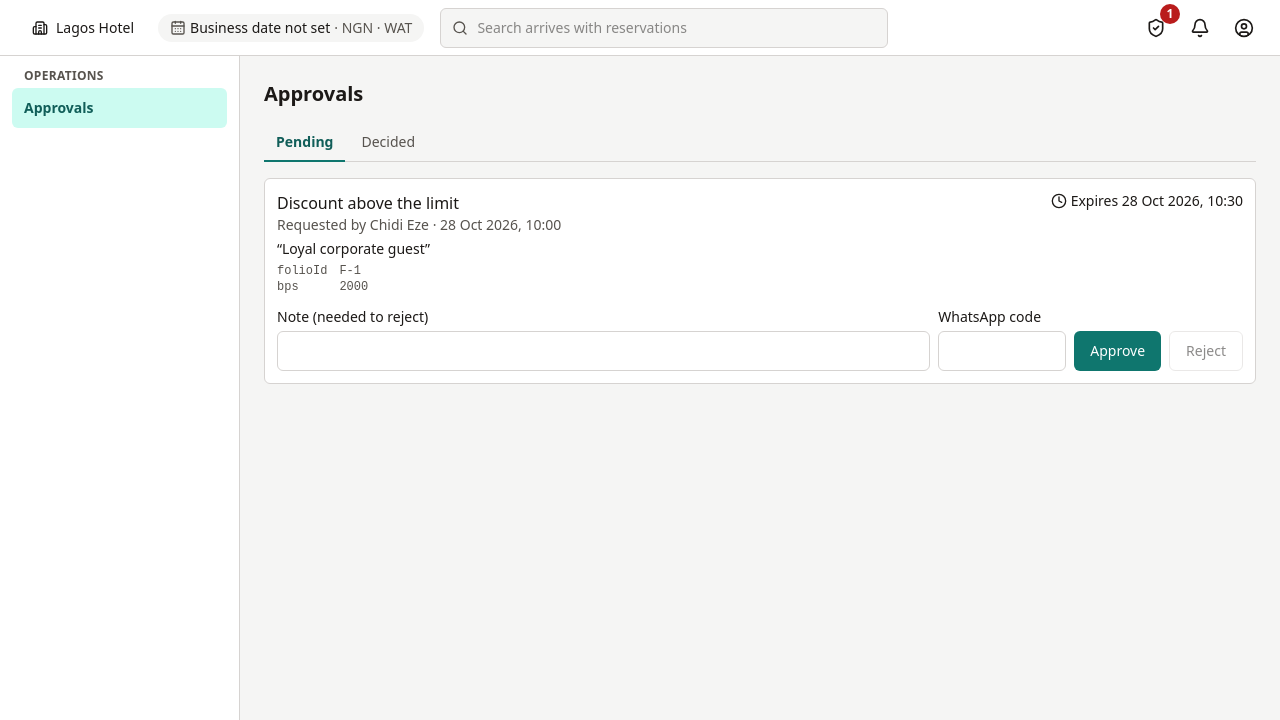
Test: Approvals inbox › rejects only with a note, and shows server refusals
Check: the button "Reject" is disabled, box [1169, 331, 1243, 371]
In the field labelled "Note (needed to reject)": (604, 351) [277, 331, 930, 371], type "Too generous"
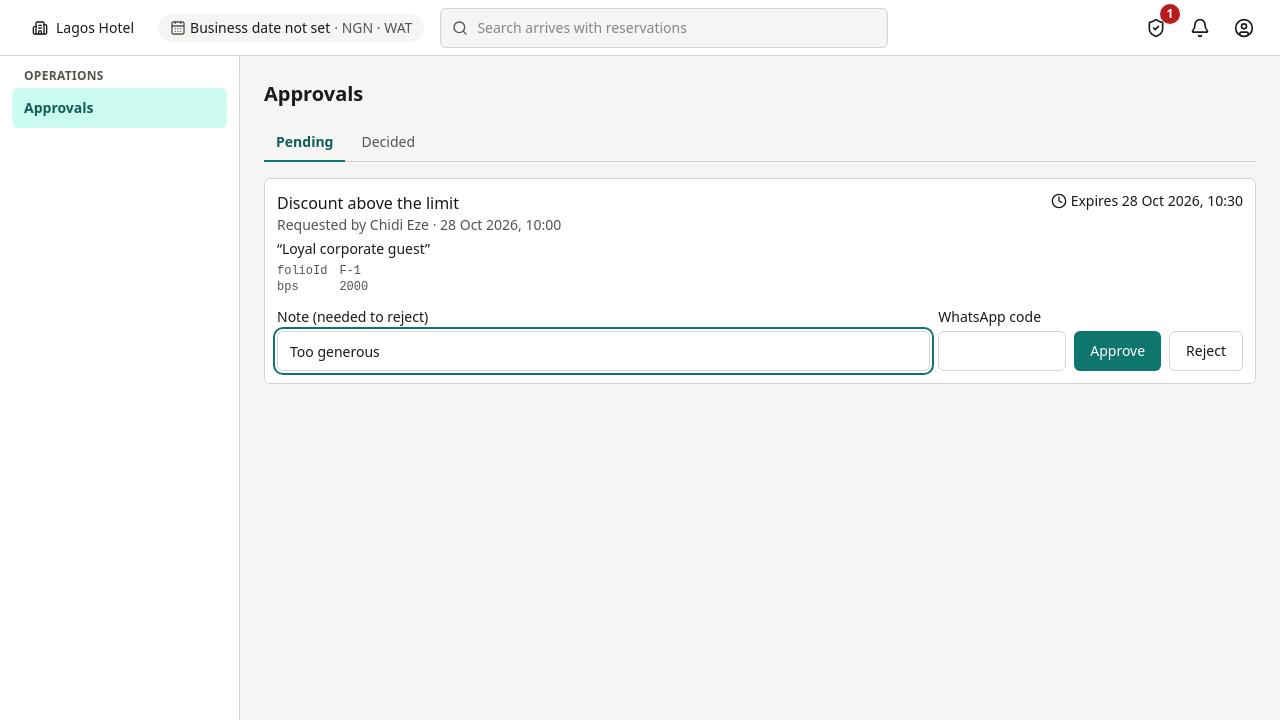
Click the button "Reject": click(1206, 351) [1169, 331, 1243, 371]
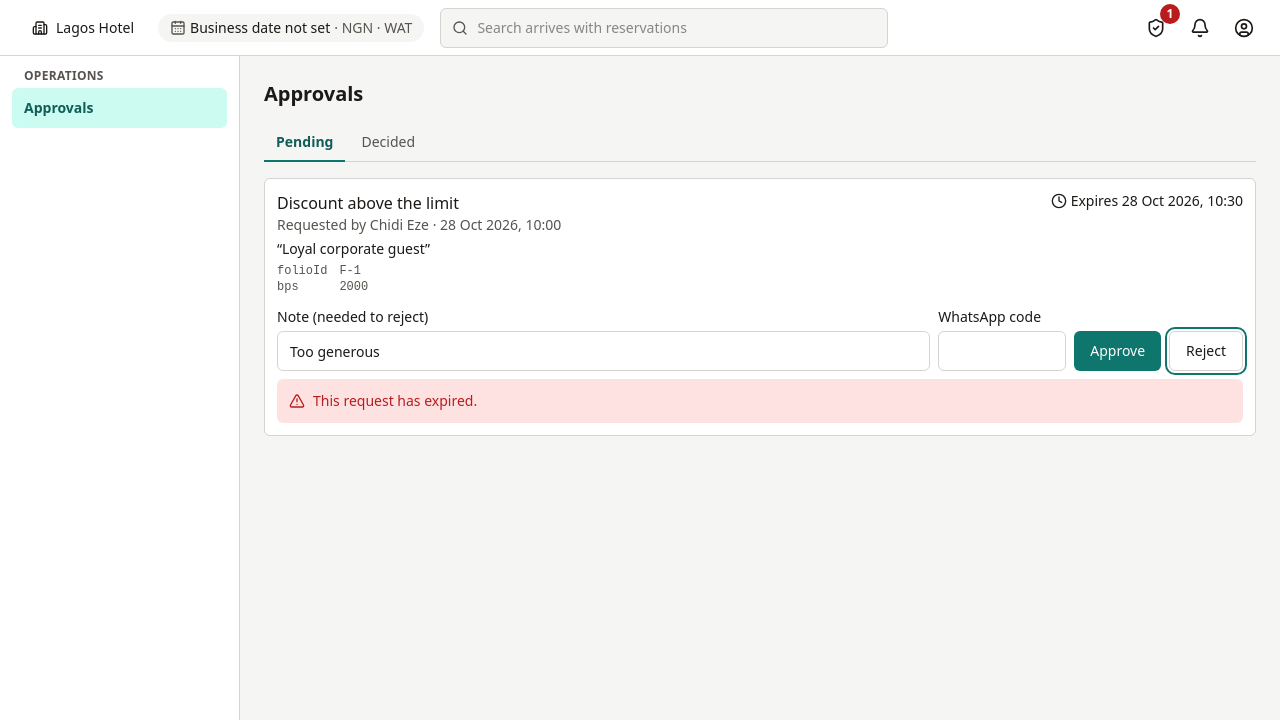
Check: the message reads "This request has expired.", box [313, 391, 477, 410]
